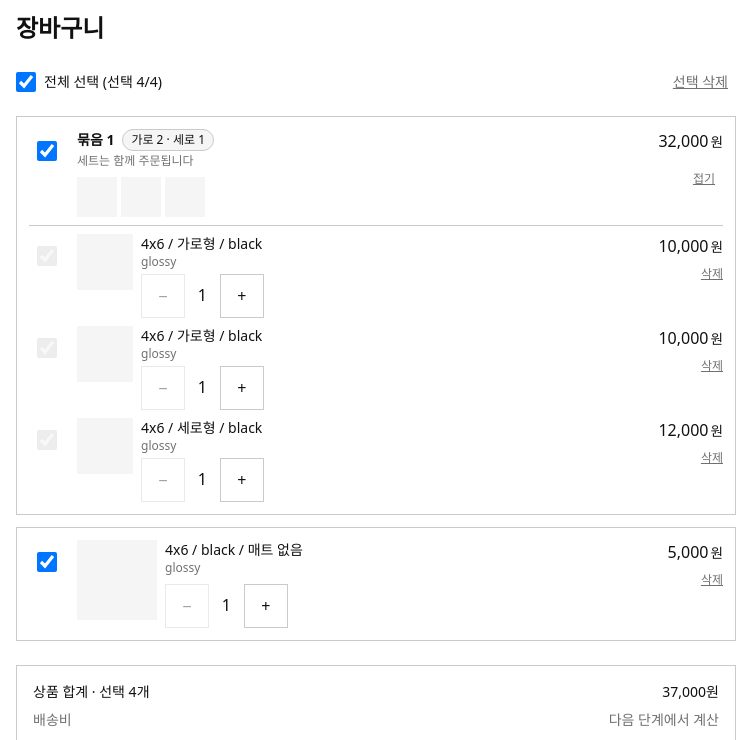
<CartClient> 묶음 그룹 렌더 › 헤더 체크박스가 그룹 전 라인을 일괄 토글한다 (원자 선택)
Expected: the list item with test id "cart-group" is shown, left=16, top=116, right=736, bottom=515
Expected: the text "전체 선택 (선택 4/4)" is shown, left=16, top=72, right=162, bottom=92
What coordinates should you click on to do the following:
click the checkbox with test id "cart-group-checkbox"
I would click on:
 (47, 151)
Its box is left=37, top=141, right=57, bottom=161.
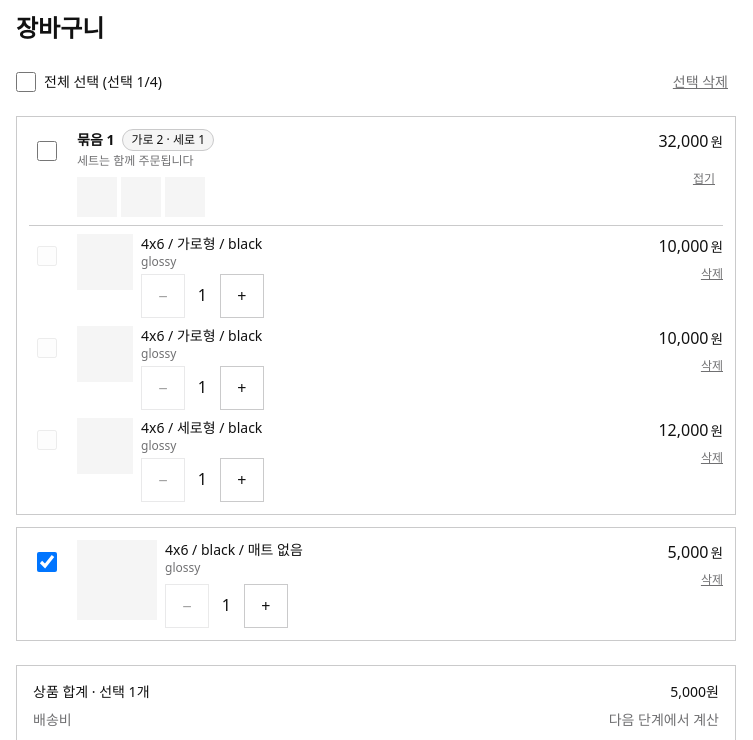
Expected: the text "전체 선택 (선택 1/4)" is shown, left=16, top=72, right=162, bottom=92
What coordinates should you click on to do the following:
click the checkbox with test id "cart-group-checkbox"
I would click on:
 (47, 151)
Its box is left=37, top=141, right=57, bottom=161.
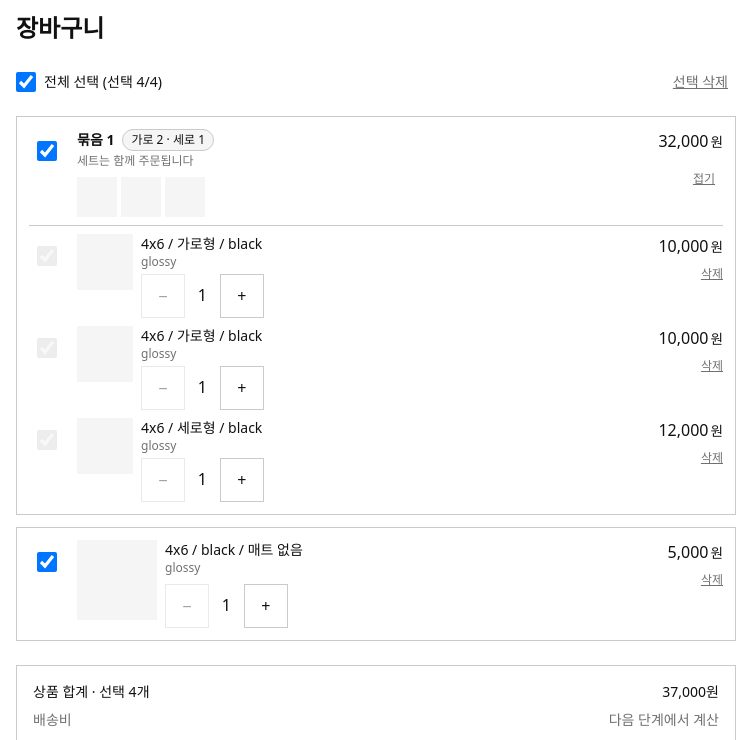
Expected: the text "전체 선택 (선택 4/4)" is shown, left=16, top=72, right=162, bottom=92
